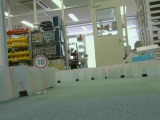speed_10: (33, 54, 48, 70)
